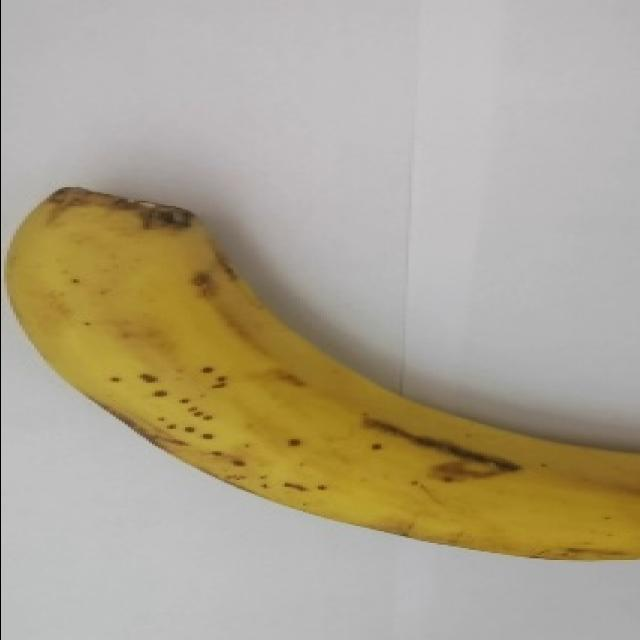Banana: (4, 184, 639, 561)
